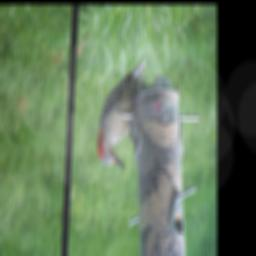Woodpecker: (98, 57, 148, 169)
